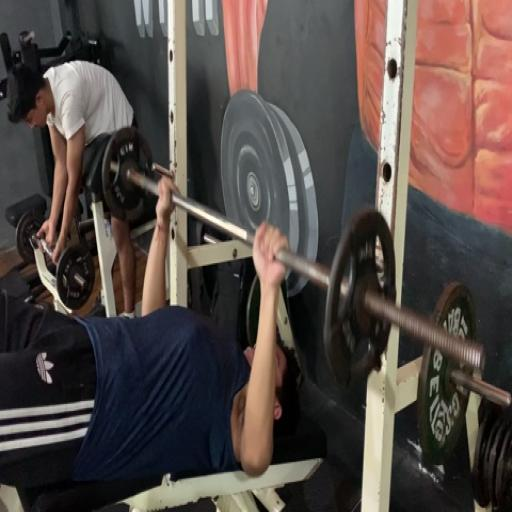exercise: (0, 172, 304, 499), (4, 55, 143, 320)
